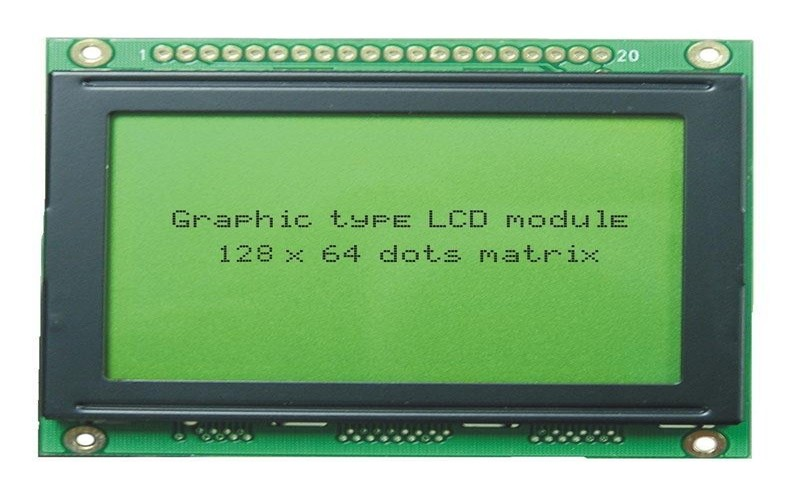LCD: (26, 66, 747, 434)
